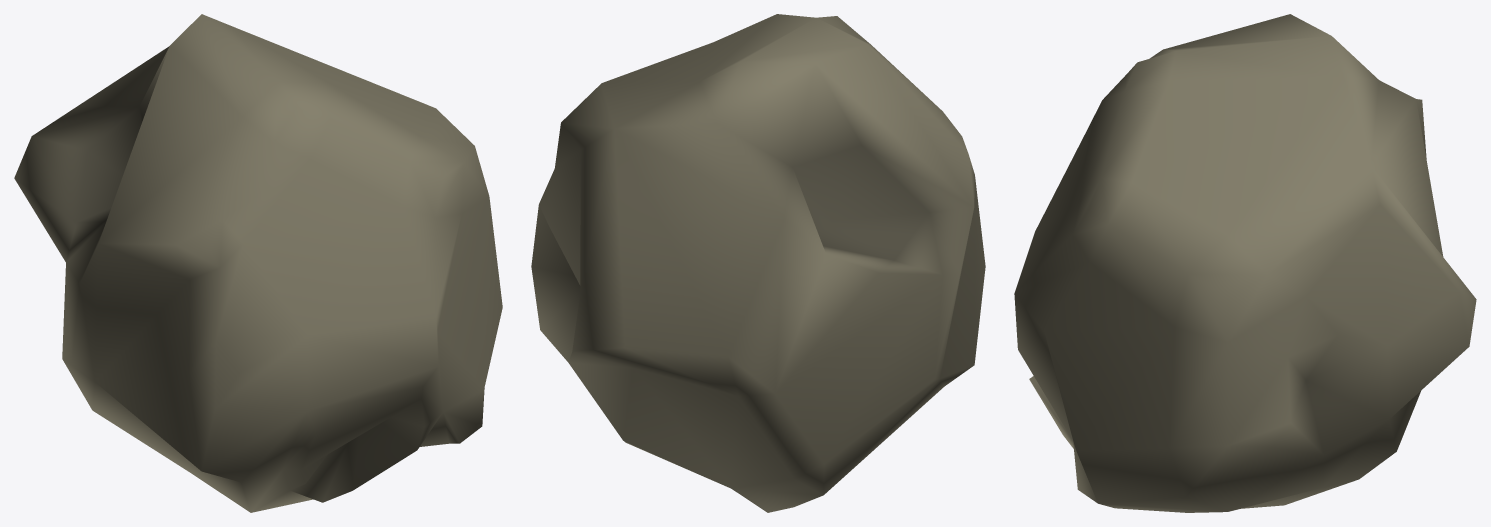
The model's file is spacerock_01.fbx.
3 views of the same model, side by side, from view 1: azimuth 30°, elevation 25°; view 2: azimuth 150°, elevation 25°; view 3: azimuth 270°, elevation 25° (orthographic). The views are drawn at different scales.
Parts seen in each view (by area): view 1: pSolid1; view 2: pSolid1; view 3: pSolid1.
Part boxes in pixels (x1,y1,x2,y2): pSolid1: (14, 14, 502, 512); pSolid1: (531, 14, 985, 512); pSolid1: (1014, 14, 1476, 512).
Bounding box in the file's own units: 34.23 × 35.63 × 32.93.
